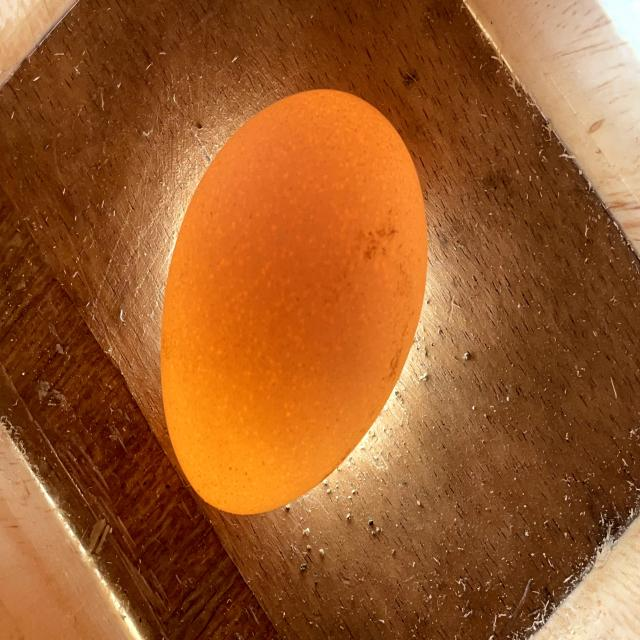infertile: (161, 90, 428, 515)
